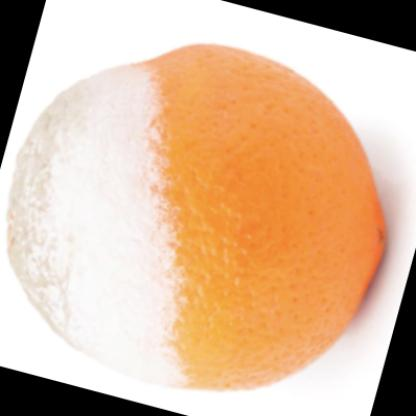rotten: (11, 42, 387, 394)
